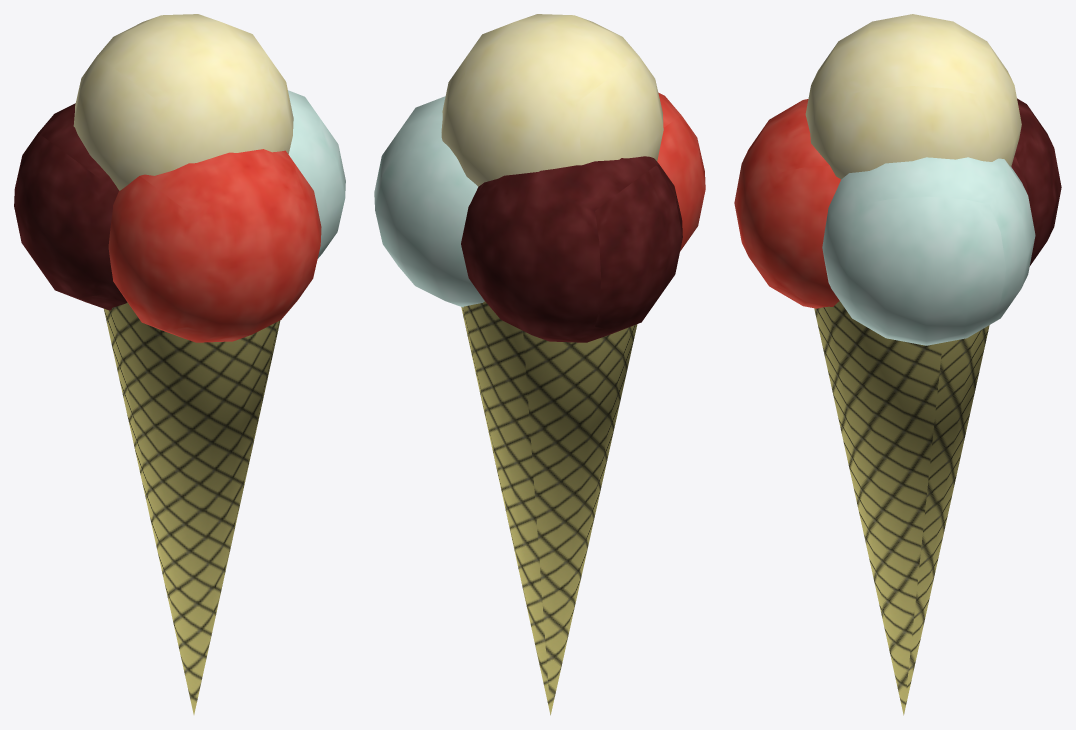
Rendered from icecream.fbx.
The picture shows the model from 3 angles, left to right: view 1: azimuth 30°, elevation 25°; view 2: azimuth 150°, elevation 25°; view 3: azimuth 270°, elevation 25°; orthographic projection.
Visible parts, largest first — view 1: icecream_msh; view 2: icecream_msh; view 3: icecream_msh.
Boxes of the visible parts, left/top/right/bottom form: icecream_msh: left=14, top=14, right=345, bottom=714; icecream_msh: left=374, top=14, right=705, bottom=715; icecream_msh: left=734, top=14, right=1061, bottom=715.
Bounding box in the file's own units: 1.33 × 3.03 × 1.31.
